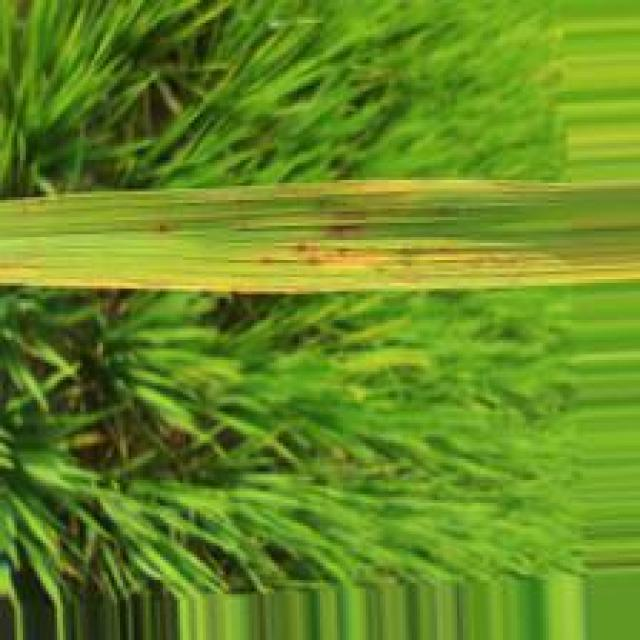Narrow_Brown_Leaf_Spot: (0, 181, 637, 295)
